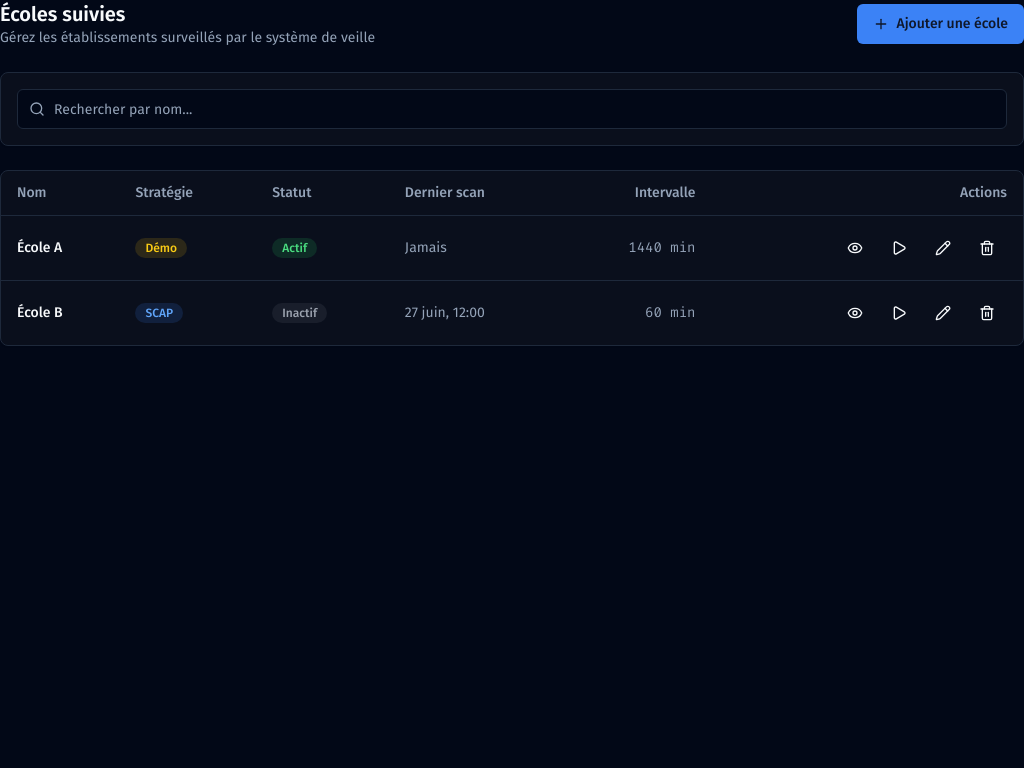
Test case: SchoolFormDialog › opens edit dialog with pre-filled form
Check: the text "École A" is shown, box [1,216,119,280]
Click the button titled "Modifier" in the row of "École A": click(943, 248) [923,228,963,268]
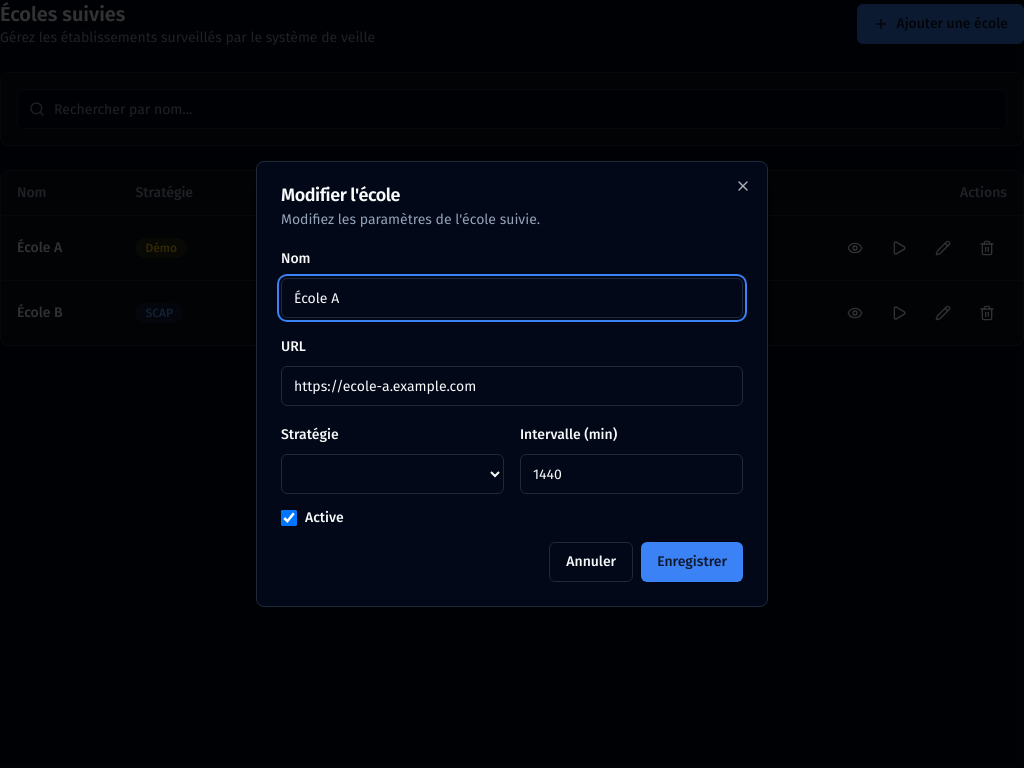
Check: the heading "Modifier l'école" is shown, box [281,184,400,206]
Check: the field labelled "Nom" holds "École A", box [281,278,743,318]
Check: the field labelled "URL" holds "https://ecole-a.example.com", box [281,366,743,406]
